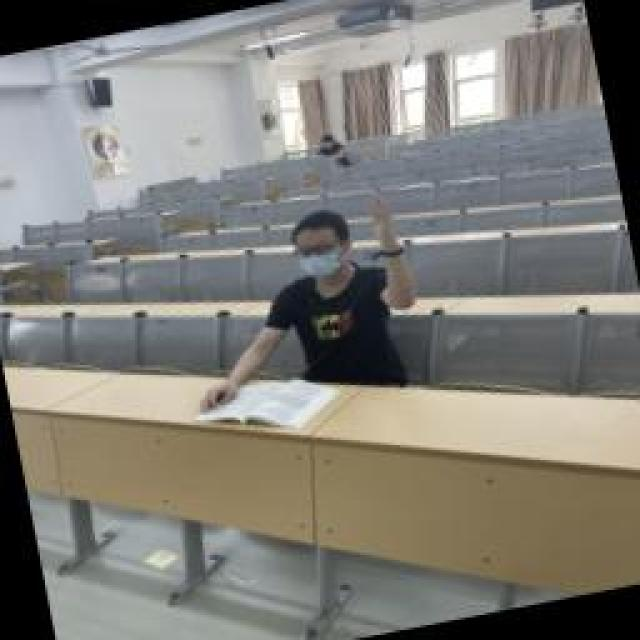study: (165, 188, 437, 448)
